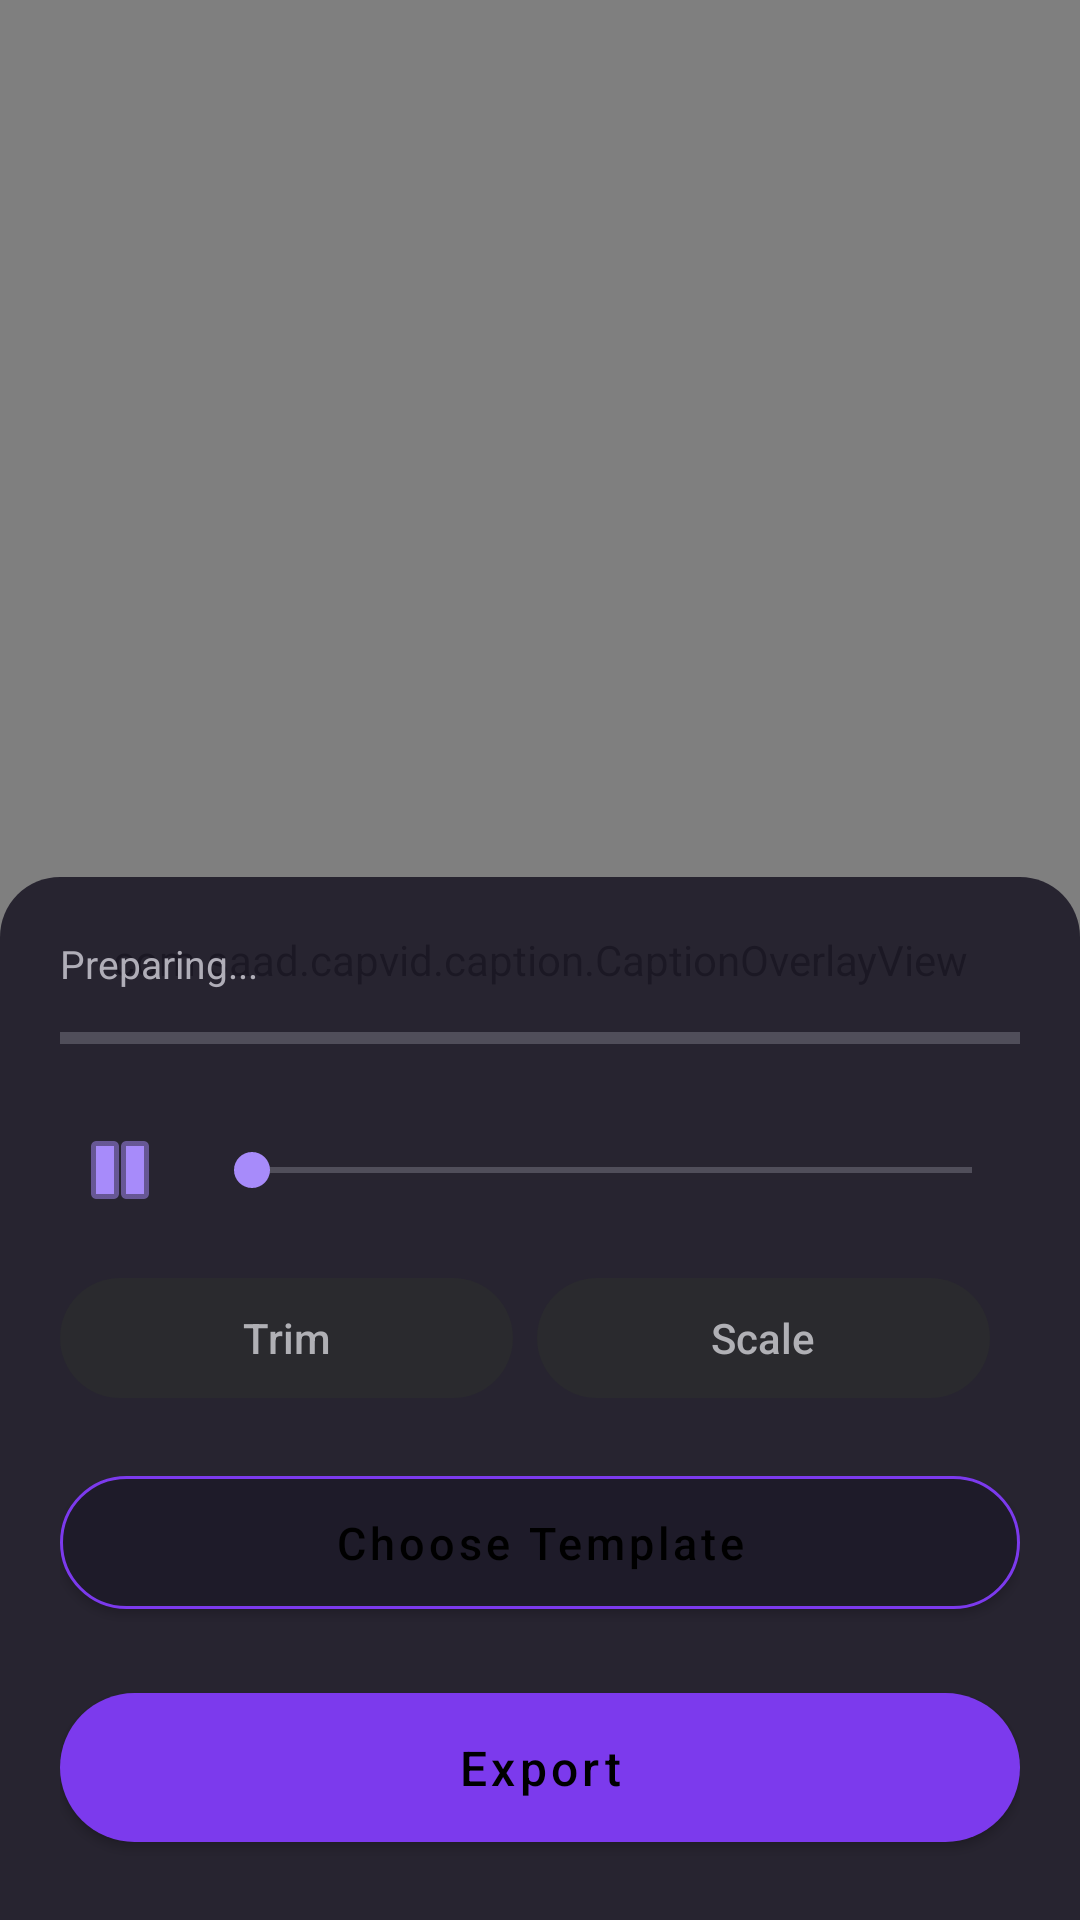

Locate icon controls on the screen. Image size 1080px×1920px, boxes as (x1, y1, x2, y2).
Play or pause: (91, 1141, 149, 1199)
